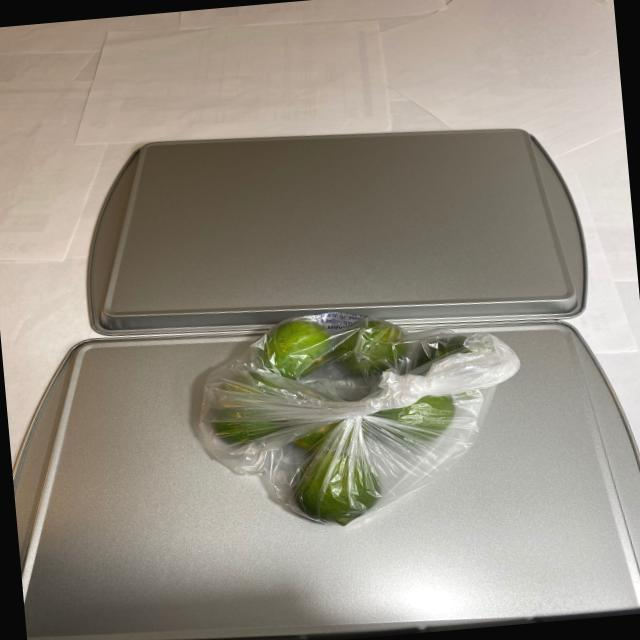lemon: (201, 300, 494, 539)
